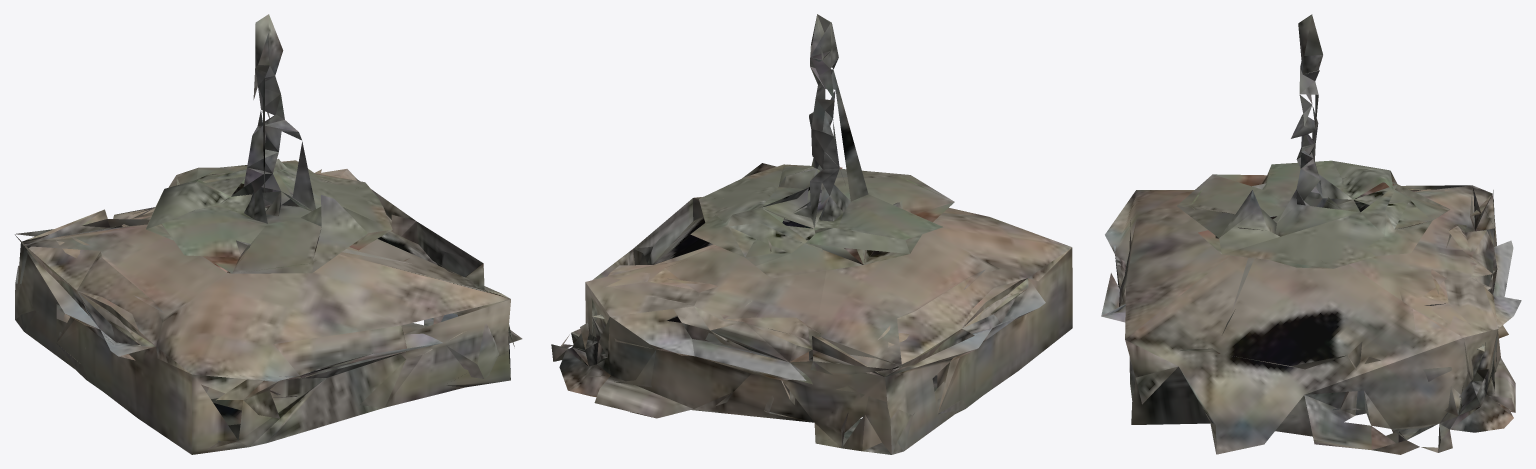
3 views of the same model, side by side, from view 1: azimuth 30°, elevation 25°; view 2: azimuth 150°, elevation 25°; view 3: azimuth 270°, elevation 25° (orthographic).
Bounding box in the file's own units: 16.66 × 13.88 × 15.4.
Materials: 1 (1 with a texture image).
